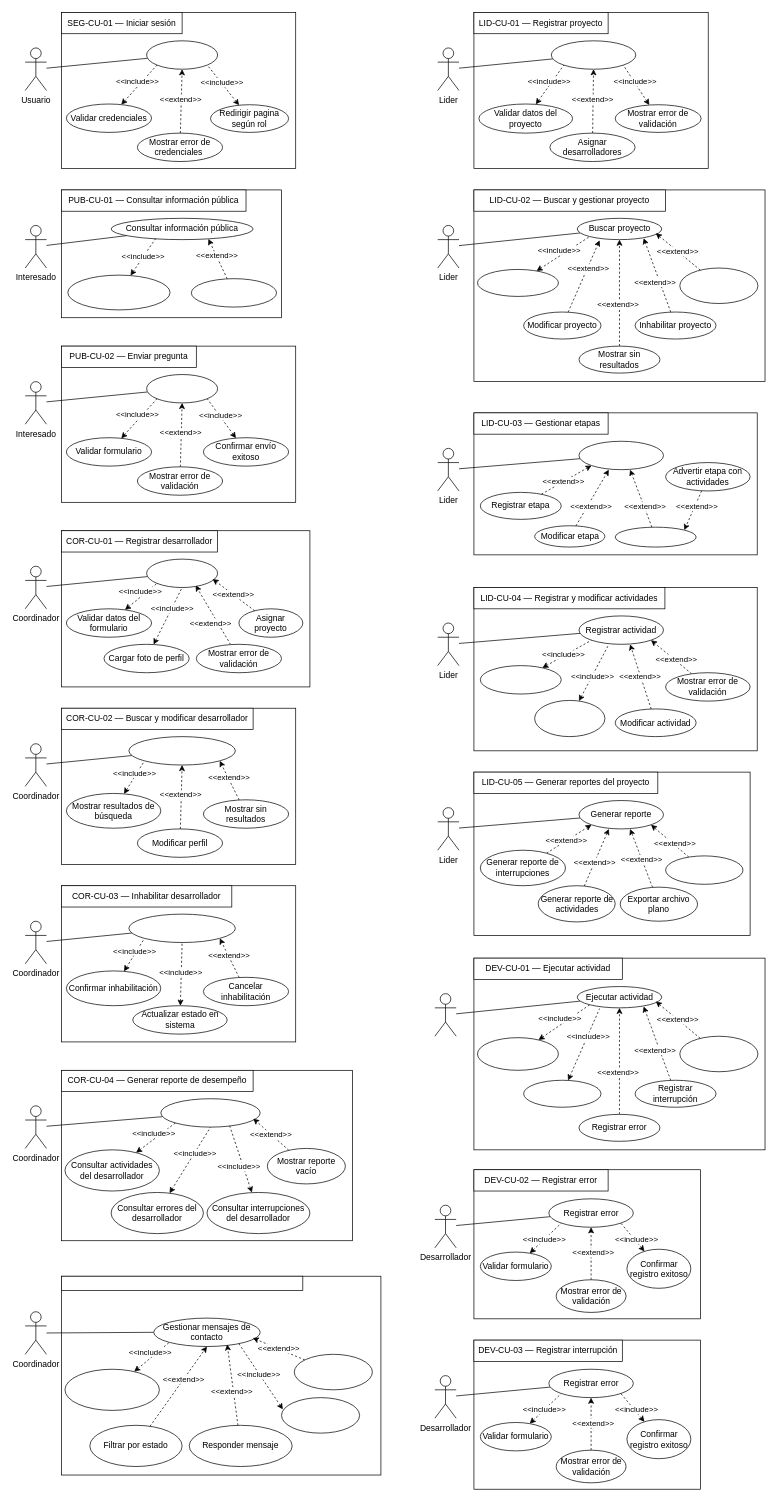
The diagram is 777 pixels wide and 1502 high, and some of its shapes have lost their labels. The centre of each missing label's shape, as x and y in pixels:
"Asignar desarrollador a actividad" goes at point (569, 718).
"Buscar desarrollador" goes at point (181, 750).
"Confirmar ejecución" goes at point (562, 1093).
"Consultar actividades asignadas" goes at point (517, 1053).
"Consultar estado del proyecto" goes at point (718, 285).
"Consultar mensajes" goes at point (111, 1389).
"COR-CU-05 - Gestionar mensajes de contacto por interesados" goes at point (182, 1283).
"Desarrolador" goes at point (445, 1014).
"Eliminar etapa" goes at point (655, 536).
"Enviar correo al interesado" goes at point (333, 1372).
"Enviar pregunta" goes at point (182, 388).
"Enviar preguntas" goes at point (234, 292).
"Generar reporte de desempeño" goes at point (210, 1112).
"Gestionar etapas" goes at point (620, 455).
"Inhabilitar desarrollador" goes at point (181, 928).
"Iniciar sesión" goes at point (182, 54).
"Mostrar acceso denegado" goes at point (718, 1054).
"Mostrar contenido del aplicativo web" goes at point (118, 292).
"Mostrar error de envío" goes at point (320, 1415).
"Mostrar reporte vacio" goes at point (704, 869).
"Mostrar resultados" goes at point (517, 282).
"Registrar desarrollador" goes at point (182, 573).
"Registrar proyecto" goes at point (593, 54).
"Validar datos de actividad" goes at point (520, 679).
